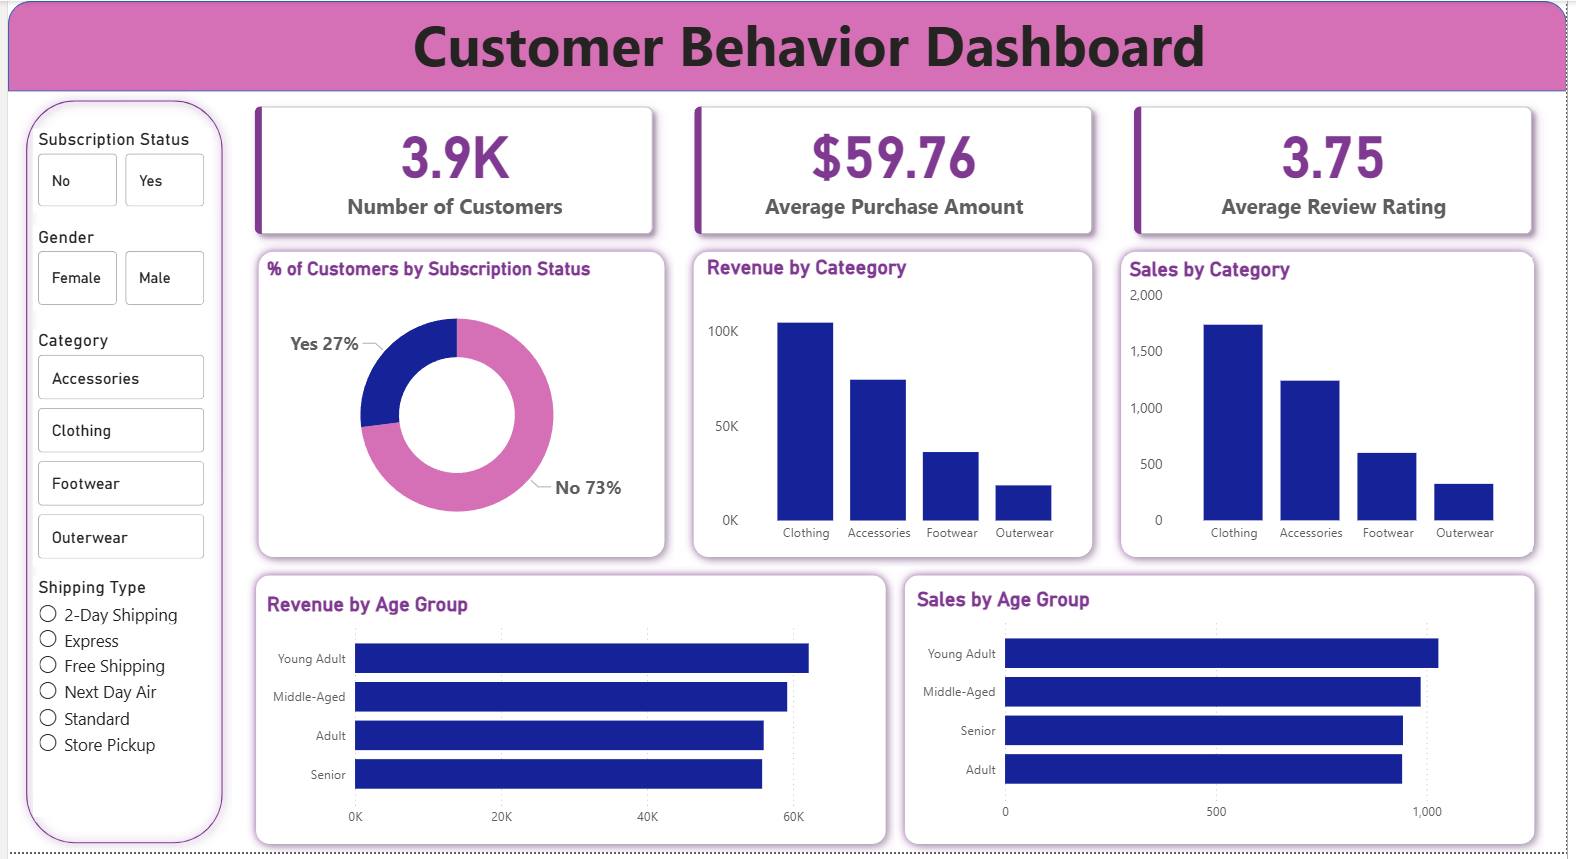

Layout of this report page (visuals, bound fields, positions):
{"tool":"powerbi","page":{"name":"Page 1","canvas":[1500,820],"ordinal":0},"visuals":[{"type":"shape","box":[230.3,543.7,624.1,276.6],"z":0},{"type":"cardVisual","fields":{"Data":["public customer.Number of Customers","public customer.Average Purchase Amount","public customer.Average Review Rating"]},"box":[204.4,68.1,1295.9,189.4],"z":1000},{"type":"shape","box":[0,0,1500.3,87.2],"z":2000},{"type":"textbox","box":[147.2,0,1249.5,99.5],"z":3000},{"type":"shape","box":[231.7,231.7,408.8,312],"z":4000},{"type":"donutChart","title":"% of Customers by Subscription Status","fields":{"Category":["public customer.subscription_status"],"Y":["CountNonNull(public customer.customer_id)"]},"box":[243.9,246.6,376.1,283.4],"z":5000},{"type":"shape","box":[1062.9,231.7,415.6,312],"z":6000},{"type":"shape","box":[651.3,231.7,402,312],"z":7000},{"type":"clusteredColumnChart","title":"Revenue by Cateegory","fields":{"Y":["Sum(public customer.purchase_amount)"],"Category":["public customer.category"]},"box":[667.7,245.3,372,284.8],"z":8000},{"type":"clusteredColumnChart","title":"Sales by Category","fields":{"Category":["public customer.category"],"Y":["CountNonNull(public customer.customer_id)"]},"box":[1073.8,246.6,392.4,283.4],"z":9000},{"type":"shape","box":[8.2,87.2,207.1,733.1],"z":10000},{"type":"advancedSlicerVisual","fields":{"Values":["public customer.subscription_status"]},"box":[24.5,122.6,171.7,80.4],"z":11000},{"type":"advancedSlicerVisual","fields":{"Values":["public customer.gender"]},"box":[24.5,216.7,170.3,81.8],"z":12000},{"type":"advancedSlicerVisual","fields":{"Values":["public customer.category"]},"box":[24.5,316.1,170.3,227.6],"z":13000},{"type":"listSlicer","fields":{"Values":["public customer.shipping_type"]},"box":[24.5,553.2,160.8,231.7],"z":14000},{"type":"clusteredBarChart","title":"Revenue by Age Group","fields":{"Y":["Sum(public customer.purchase_amount)"],"Category":["public customer.age_group"]},"box":[243.9,569.6,596.8,234.4],"z":15000},{"type":"shape","box":[854.4,543.7,624.1,276.6],"z":15001},{"type":"clusteredBarChart","title":"Sales by Age Group","fields":{"Category":["public customer.age_group"],"Y":["CountNonNull(public customer.customer_id)"]},"box":[869.4,564.1,596.8,234.4],"z":15002}]}

Visuals, with their boxes in screenshot pixels (x1, y1, x2, y2), scaled from the page's 1500x820 canvas onto the 1576x859 screenshot:
shape: (242,570,898,858)
cardVisual - public customer.Number of Customers x public customer.Average Purchase Amount: (215,71,1575,270)
shape: (0,0,1575,91)
textbox: (155,0,1467,104)
shape: (243,243,673,570)
"% of Customers by Subscription Status" donutChart: (256,258,651,555)
shape: (1117,243,1553,570)
shape: (684,243,1107,570)
"Revenue by Cateegory" clusteredColumnChart: (702,257,1092,555)
"Sales by Category" clusteredColumnChart: (1128,258,1540,555)
shape: (9,91,226,858)
advancedSlicerVisual - public customer.subscription_status: (26,128,206,213)
advancedSlicerVisual - public customer.gender: (26,227,205,313)
advancedSlicerVisual - public customer.category: (26,331,205,570)
listSlicer - public customer.shipping_type: (26,580,195,822)
"Revenue by Age Group" clusteredBarChart: (256,597,883,842)
shape: (898,570,1553,858)
"Sales by Age Group" clusteredBarChart: (913,591,1540,836)
